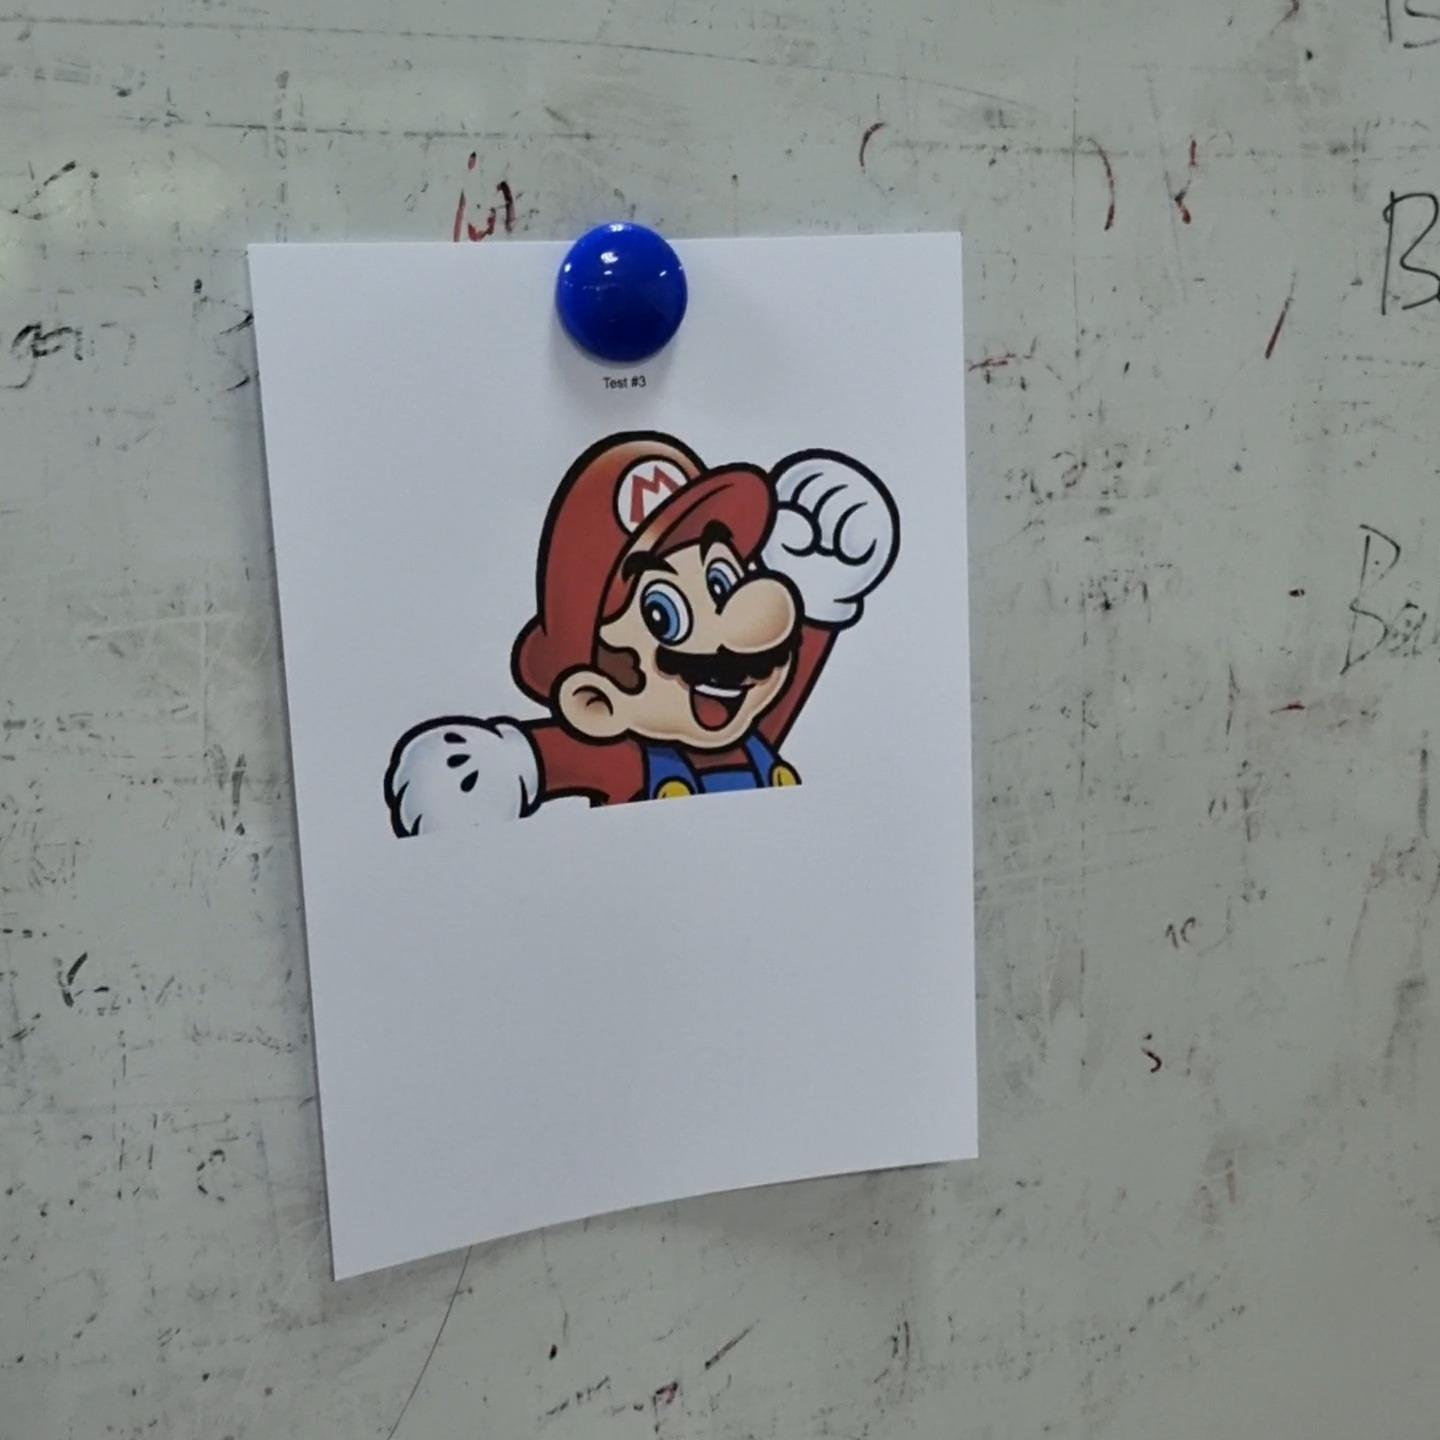mario: (371, 417, 906, 848)
